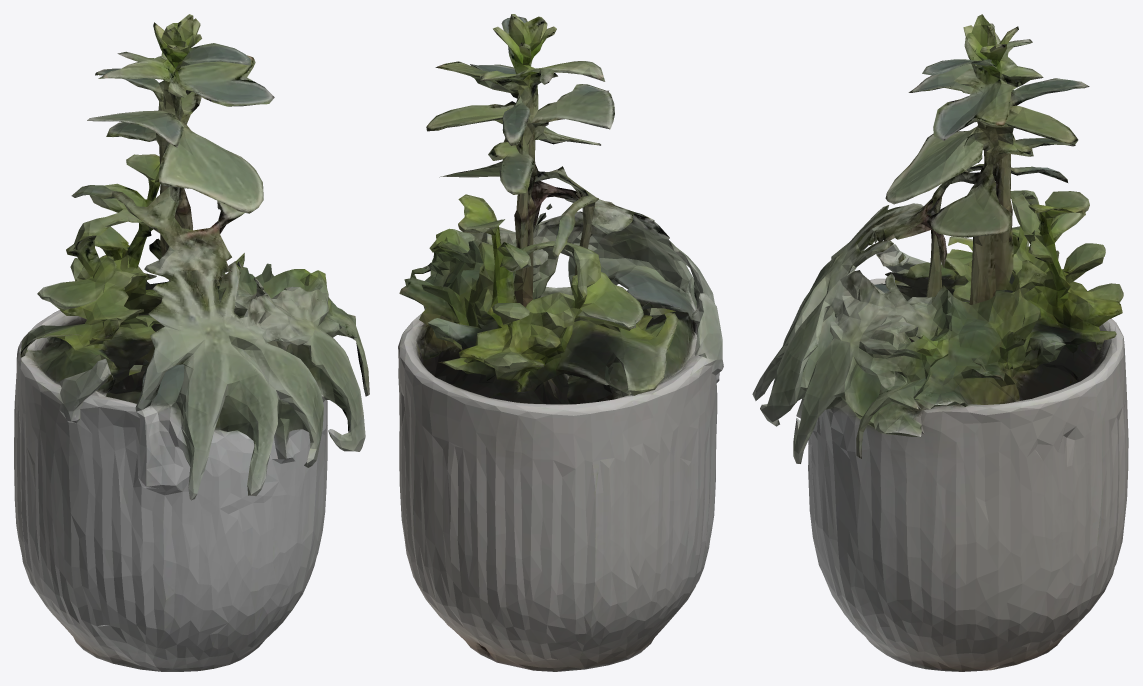
3 views of the same model, side by side, from view 1: azimuth 30°, elevation 25°; view 2: azimuth 150°, elevation 25°; view 3: azimuth 270°, elevation 25° (orthographic). The views are drawn at different scales.
Visible parts, largest first — view 1: geometry_0; view 2: geometry_0; view 3: geometry_0.
Boxes of the visible parts, <box> form: geometry_0: <box>14,14,369,671</box>; geometry_0: <box>398,14,723,671</box>; geometry_0: <box>752,14,1128,671</box>.
Bounding box in the file's own units: 0.4036 × 0.7796 × 0.428.
Materials: 1 (1 with a texture image).
